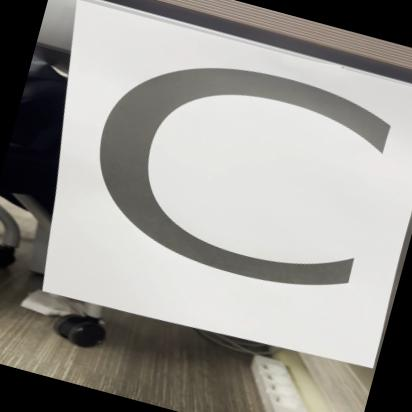seat: (5, 0, 412, 367)
